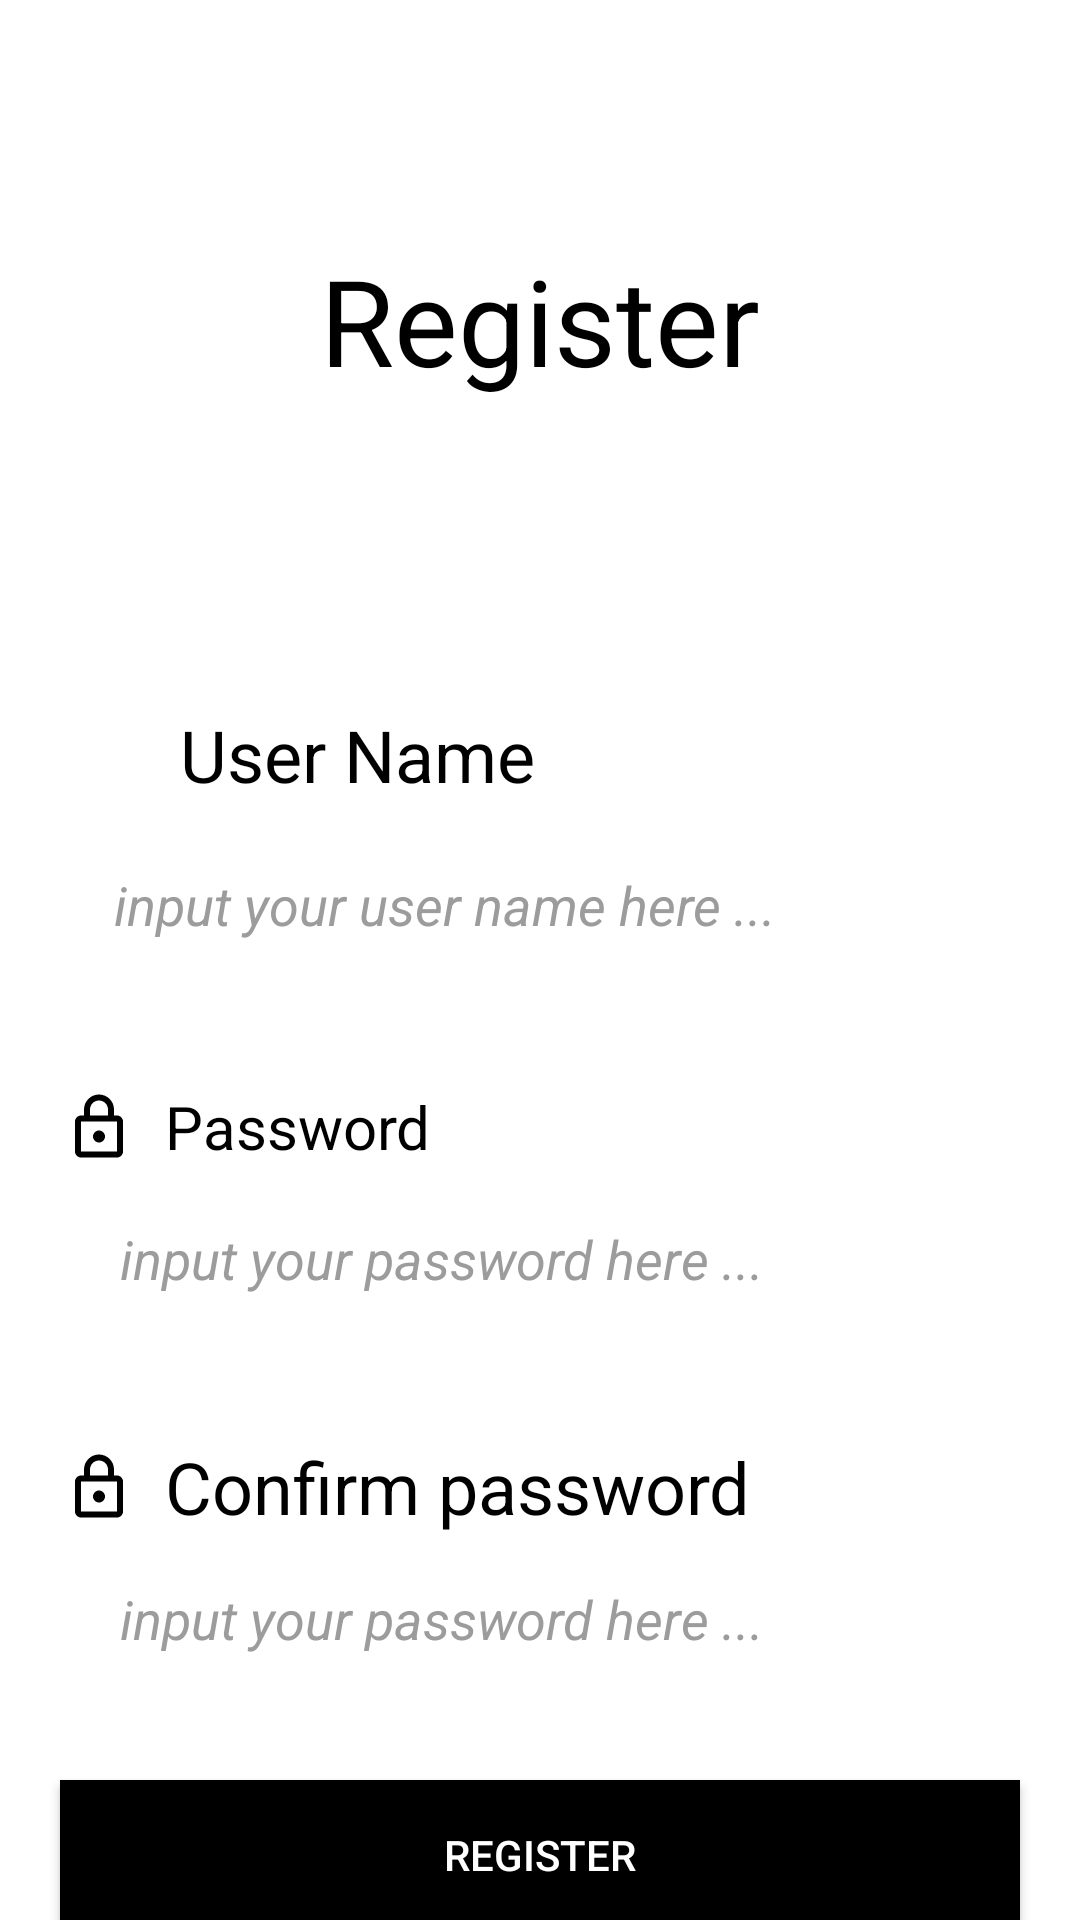

Icons on this 1080px×1920px Android screen, each with its box as (x1, y1, x2, y2):
lock: (75, 1094, 123, 1158), (75, 1454, 123, 1518)
